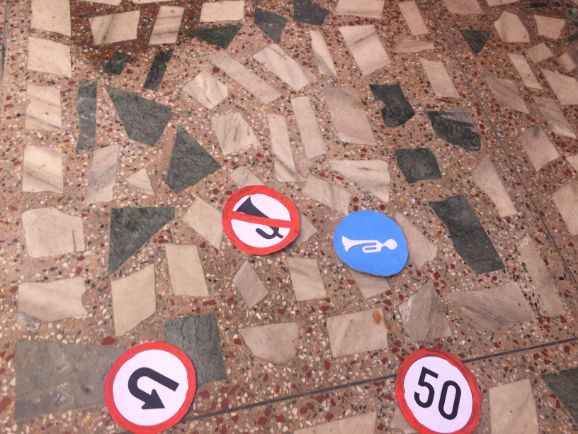blow-horn: (335, 211, 409, 278)
no-horn: (222, 186, 302, 252)
speed-50: (392, 349, 487, 433)
u-turn: (102, 343, 197, 433)
